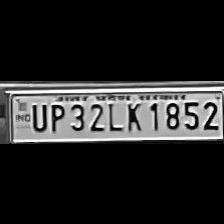1: (144, 98, 162, 132)
2: (86, 98, 104, 132), (200, 96, 218, 130)
3: (66, 98, 86, 130)
5: (181, 96, 199, 130)
8: (160, 97, 180, 130)
K: (122, 98, 144, 132)
L: (104, 97, 124, 131)
P: (47, 99, 65, 131)
U: (28, 99, 48, 131)
